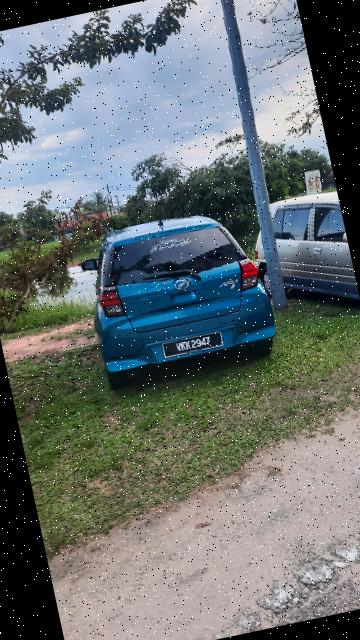License_Plate: (159, 329, 229, 362)
car: (67, 194, 285, 396)
